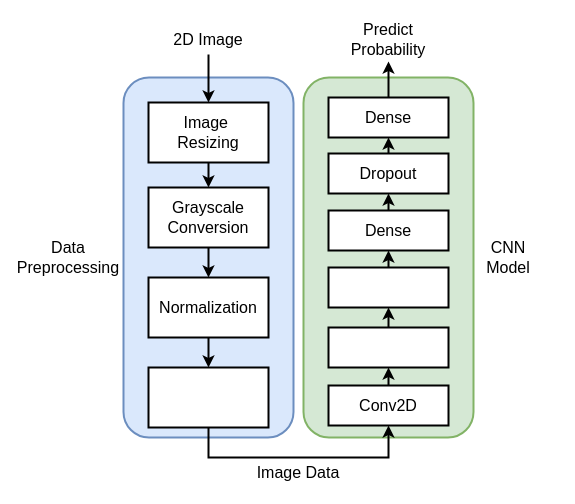
This 575x504 diagram has some shape labels left out. Each missing label, with the centre of its shape:
Faltten: pixel 388 287
Flattening and Shffuling: pixel 208 397
MaxPooling2D: pixel 388 347
